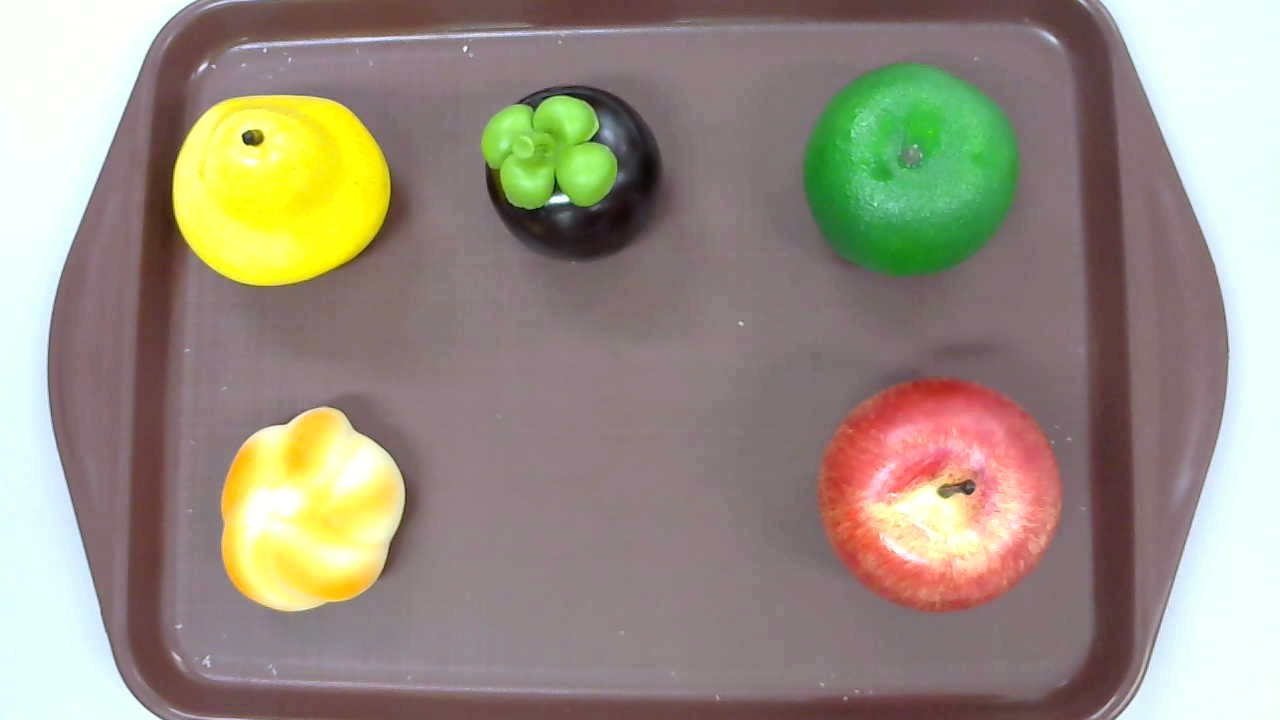green orange: (803, 62, 1020, 278)
mangosteen: (481, 86, 665, 262)
red apple: (818, 378, 1064, 614)
twist bread: (220, 406, 406, 611)
yellow pear: (171, 94, 391, 286)
